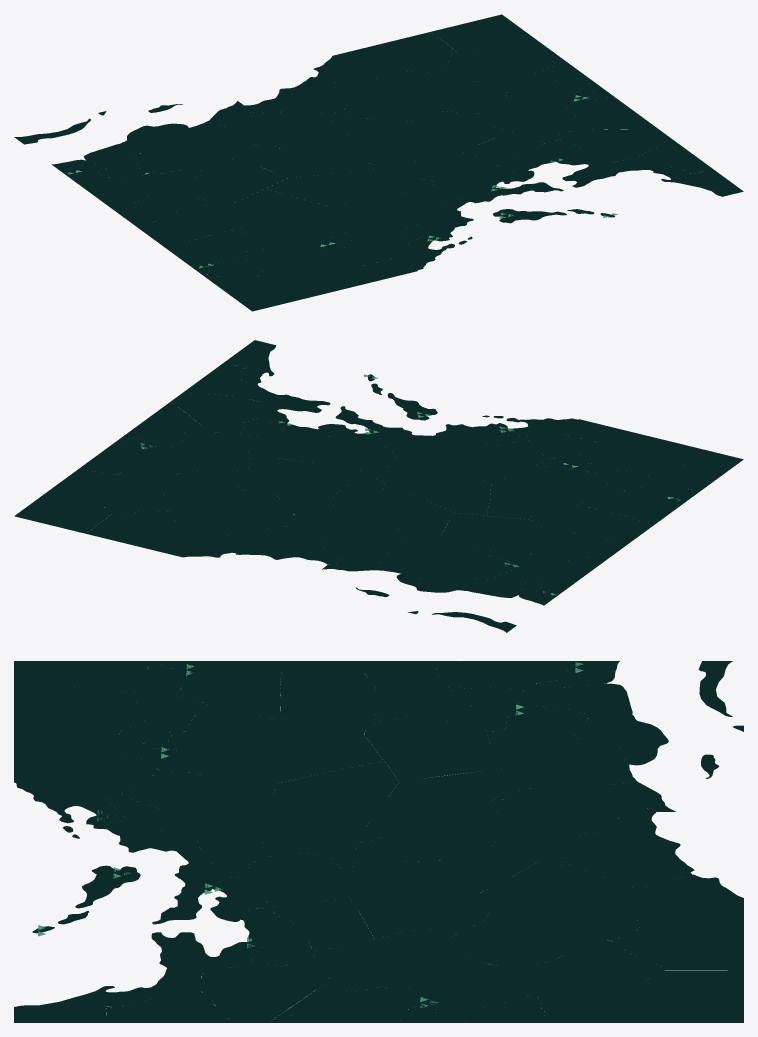
File: mapautodesk.FBX
3 renders of one model, top to bottom at view 1: azimuth 30°, elevation 25°; view 2: azimuth 150°, elevation 25°; view 3: azimuth 270°, elevation 25°, orthographic. The views are drawn at different scales.
Parts seen in each view (by area): view 1: Curve_014_Mesh_073, Curve_032_Mesh_055, Curve_034_Mesh_053, Curve_012_Mesh_075, Curve_038_Mesh_049, Curve_035_Mesh_052, Curve_010_Mesh_077, Curve_036_Mesh_051, Curve_049_Mesh_038, Curve_025_Mesh_062, Curve_009_Mesh_078, Curve_037_Mesh_050 (+31 smaller); view 2: Curve_014_Mesh_073, Curve_032_Mesh_055, Curve_034_Mesh_053, Curve_012_Mesh_075, Curve_038_Mesh_049, Curve_035_Mesh_052, Curve_010_Mesh_077, Curve_036_Mesh_051, Curve_049_Mesh_038, Curve_025_Mesh_062, Curve_009_Mesh_078, Curve_037_Mesh_050 (+31 smaller); view 3: Curve_014_Mesh_073, Curve_032_Mesh_055, Curve_034_Mesh_053, Curve_012_Mesh_075, Curve_038_Mesh_049, Curve_035_Mesh_052, Curve_010_Mesh_077, Curve_036_Mesh_051, Curve_049_Mesh_038, Curve_025_Mesh_062, Curve_009_Mesh_078, Curve_037_Mesh_050 (+31 smaller).
Boxes of the visible parts, box(x1,y1,x2,y2) form: Curve_014_Mesh_073: box(344, 71, 507, 121); Curve_032_Mesh_055: box(238, 188, 345, 251); Curve_034_Mesh_053: box(322, 111, 510, 152); Curve_012_Mesh_075: box(478, 80, 597, 142); Curve_038_Mesh_049: box(330, 183, 476, 243); Curve_035_Mesh_052: box(237, 134, 398, 177); Curve_010_Mesh_077: box(313, 32, 455, 83); Curve_036_Mesh_051: box(266, 160, 432, 206); Curve_049_Mesh_038: box(133, 120, 264, 175); Curve_025_Mesh_062: box(209, 101, 353, 149); Curve_009_Mesh_078: box(431, 14, 565, 64); Curve_037_Mesh_050: box(369, 141, 499, 186); Curve_014_Mesh_073: box(160, 470, 301, 535); Curve_032_Mesh_055: box(487, 464, 624, 519); Curve_034_Mesh_053: box(225, 454, 346, 525); Curve_012_Mesh_075: box(107, 425, 253, 475); Curve_038_Mesh_049: box(377, 438, 546, 482); Curve_035_Mesh_052: box(331, 485, 453, 541); Curve_010_Mesh_077: box(86, 510, 234, 557); Curve_036_Mesh_051: box(350, 458, 491, 515); Curve_049_Mesh_038: box(375, 537, 521, 579); Curve_025_Mesh_062: box(284, 515, 402, 571); Curve_009_Mesh_078: box(14, 469, 111, 533); Curve_037_Mesh_050: box(306, 439, 395, 490); Curve_014_Mesh_073: box(443, 859, 645, 968); Curve_032_Mesh_055: box(168, 703, 383, 783); Curve_034_Mesh_053: box(349, 838, 543, 940); Curve_012_Mesh_075: box(313, 928, 499, 1020); Curve_038_Mesh_049: box(120, 770, 277, 878); Curve_035_Mesh_052: box(362, 768, 514, 861); Curve_010_Mesh_077: box(611, 874, 743, 970); Curve_036_Mesh_051: box(263, 761, 399, 870); Curve_049_Mesh_038: box(486, 702, 636, 792); Curve_025_Mesh_062: box(486, 781, 675, 868); Curve_009_Mesh_078: box(544, 970, 743, 1022); Curve_037_Mesh_050: box(230, 837, 403, 906).
Size of the model in its own units: 3.2 by 1.67e-16 by 2.73.
